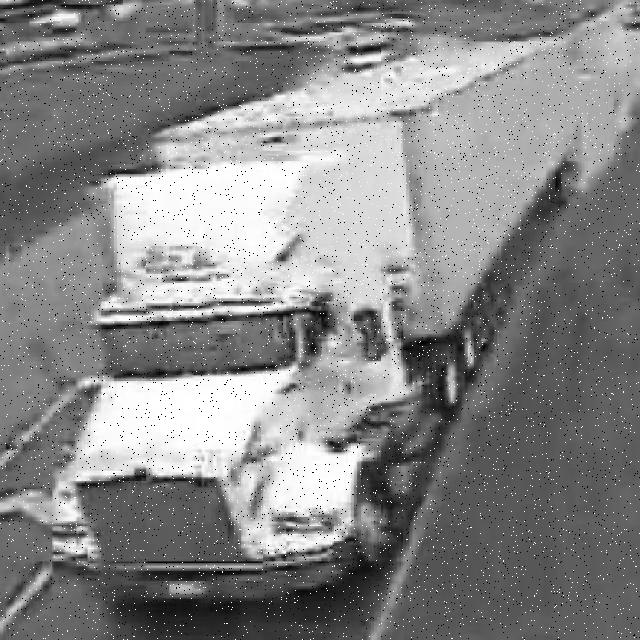Tractor Trailer: (54, 38, 586, 604)
